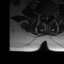CCS_normal: (46, 13, 48, 22)
LFS_severe_stenosis: (49, 12, 51, 17)
LLS_stenosis: (47, 13, 49, 18)
RFS_severe_stenosis: (42, 12, 44, 18)
RLS_severe_stenosis: (44, 13, 46, 18)
